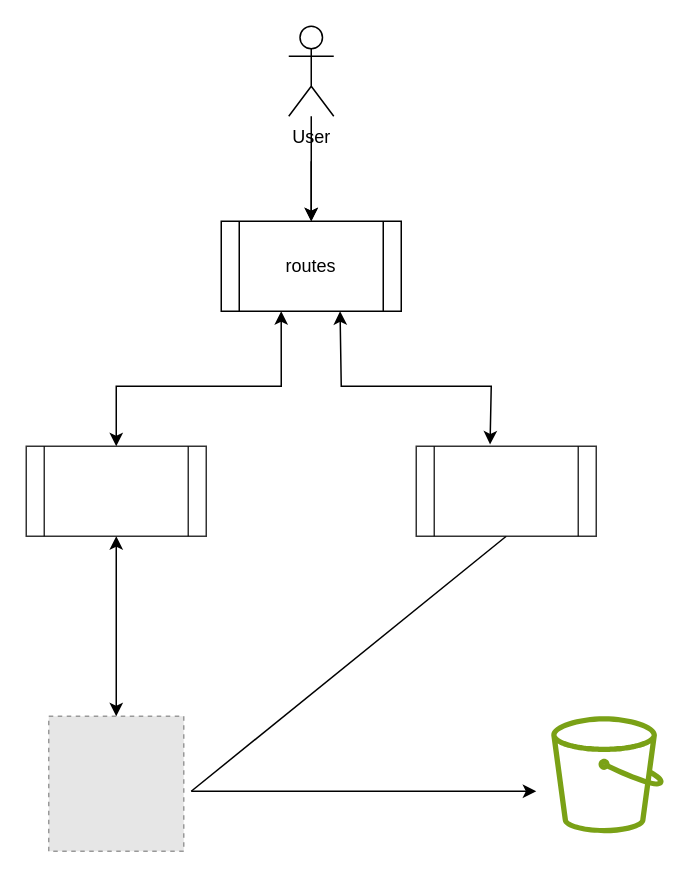
Some shapes in this 690 by 878 pixel diagram are drawn without their labels. Grey dashed boxes stand in for pictures. Each missing label, with the box of its shape:
Register/Login routes: (25, 445, 206, 536)
User/Admin routes: (415, 445, 596, 536)
